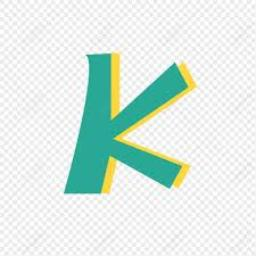k: (53, 28, 219, 218)
